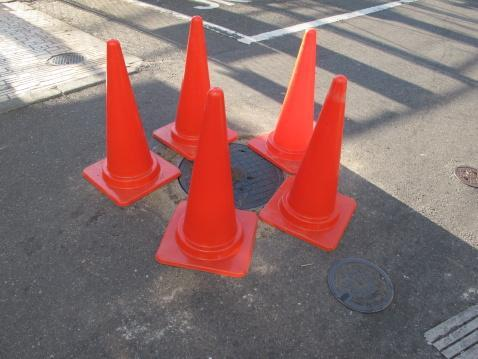Cone: (152, 86, 258, 281), (259, 73, 359, 253), (80, 38, 182, 208), (151, 15, 247, 160), (249, 29, 323, 174)
